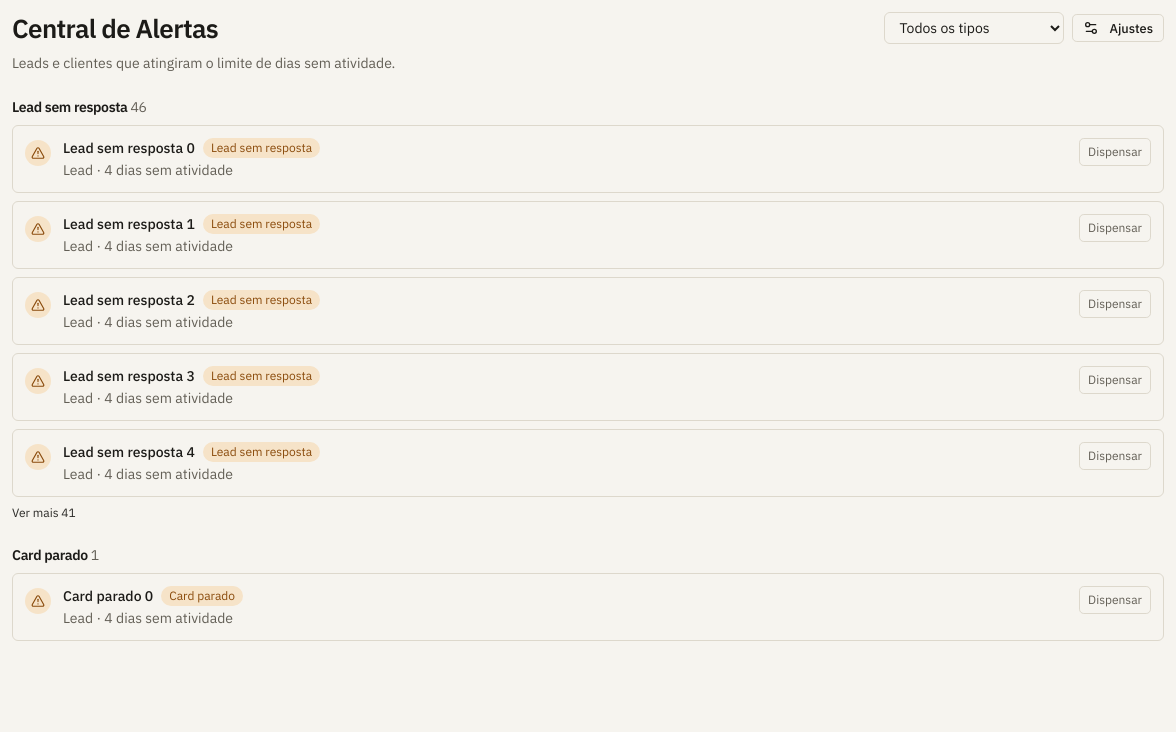
B48-19 — Telas menos carregadas › CA-B48-49: should agrupar os alertas por tipo, com "Ver mais"
Check: the heading "Lead sem resposta 46" is shown, box [12, 98, 147, 116]
Check: the number of buttons "Dispensar" is 5, box [1079, 138, 1151, 166]; [1079, 214, 1151, 242]; [1079, 290, 1151, 318]; [1079, 366, 1151, 394]; [1079, 442, 1151, 470]
Click the button "Ver mais 41". click: (44,512)
box: [12, 504, 76, 520]
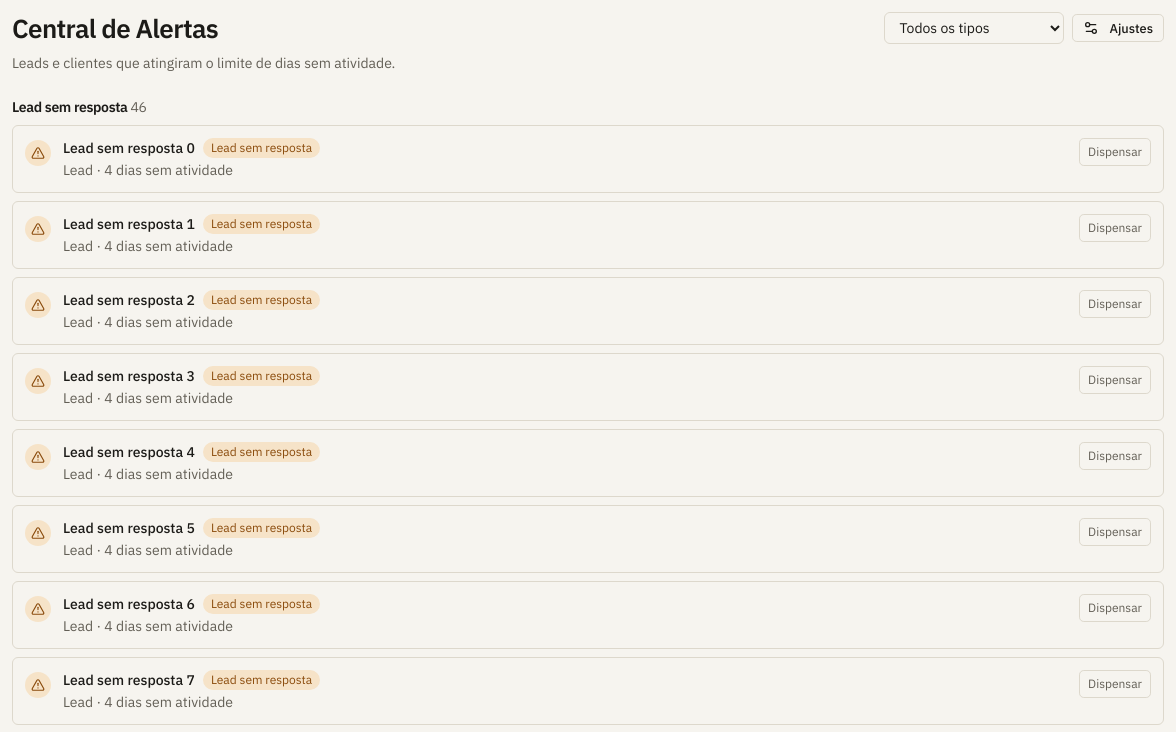
Check: the number of buttons "Dispensar" is 46
